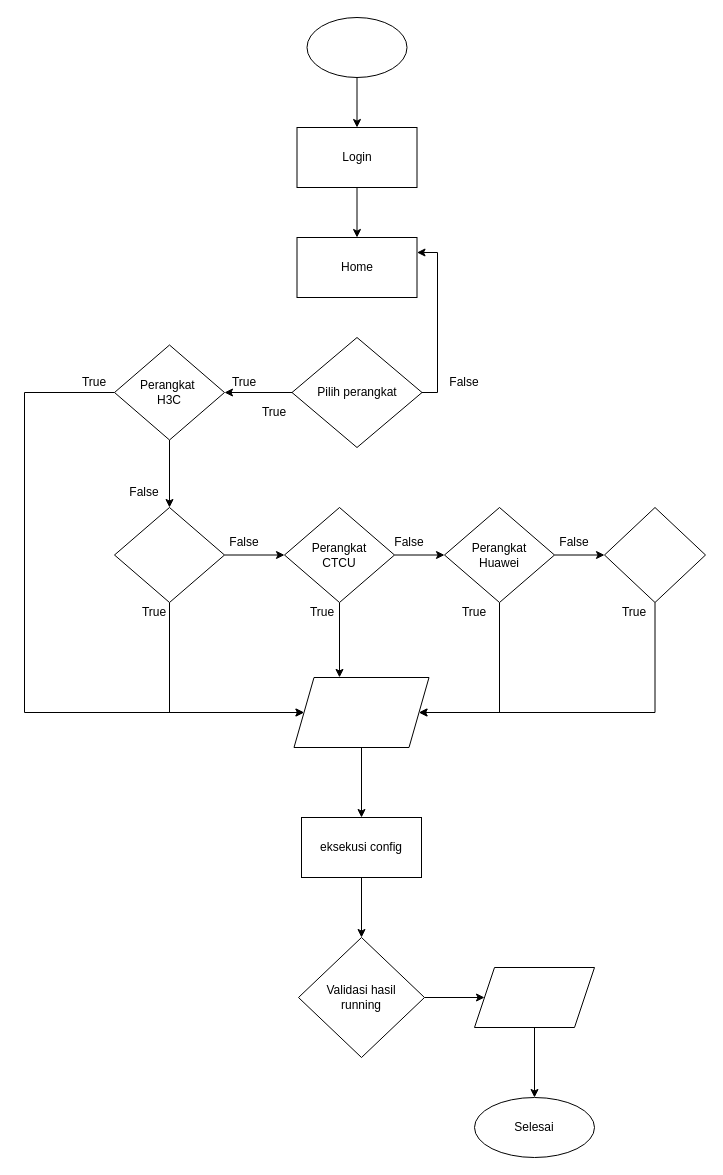
The diagram is 723 pixels wide and 1175 high, and some of its shapes have lost their labels. Here are the shapes that lost their labels. From the top down, the centre of each, then its label:
[356,47]: Start
[169,554]: Perangkat BDCOM
[655,554]: Perangkat Planet
[361,712]: input konfigurasi
[534,997]: File script konfigurasi (.py)
